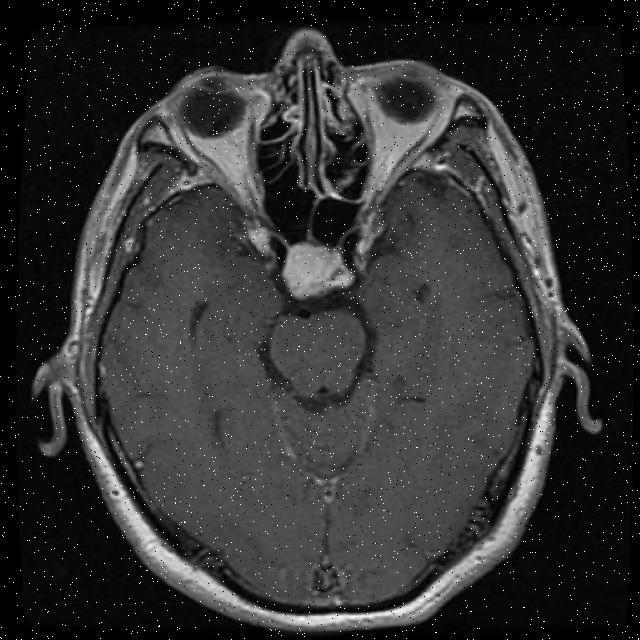Pituitary: (281, 242, 354, 299)
